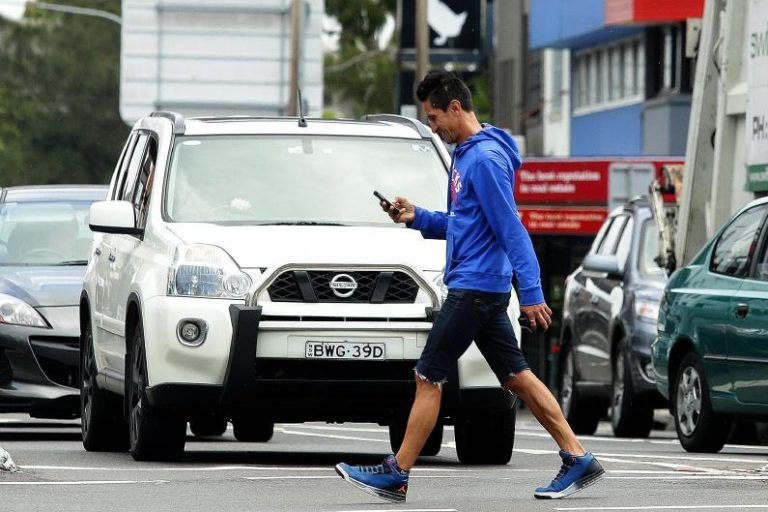sombie: (335, 69, 616, 499)
